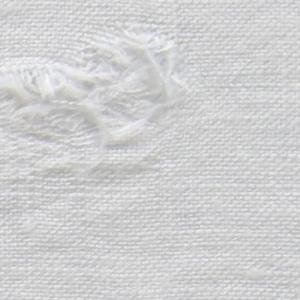Damage: (1, 15, 191, 209)
